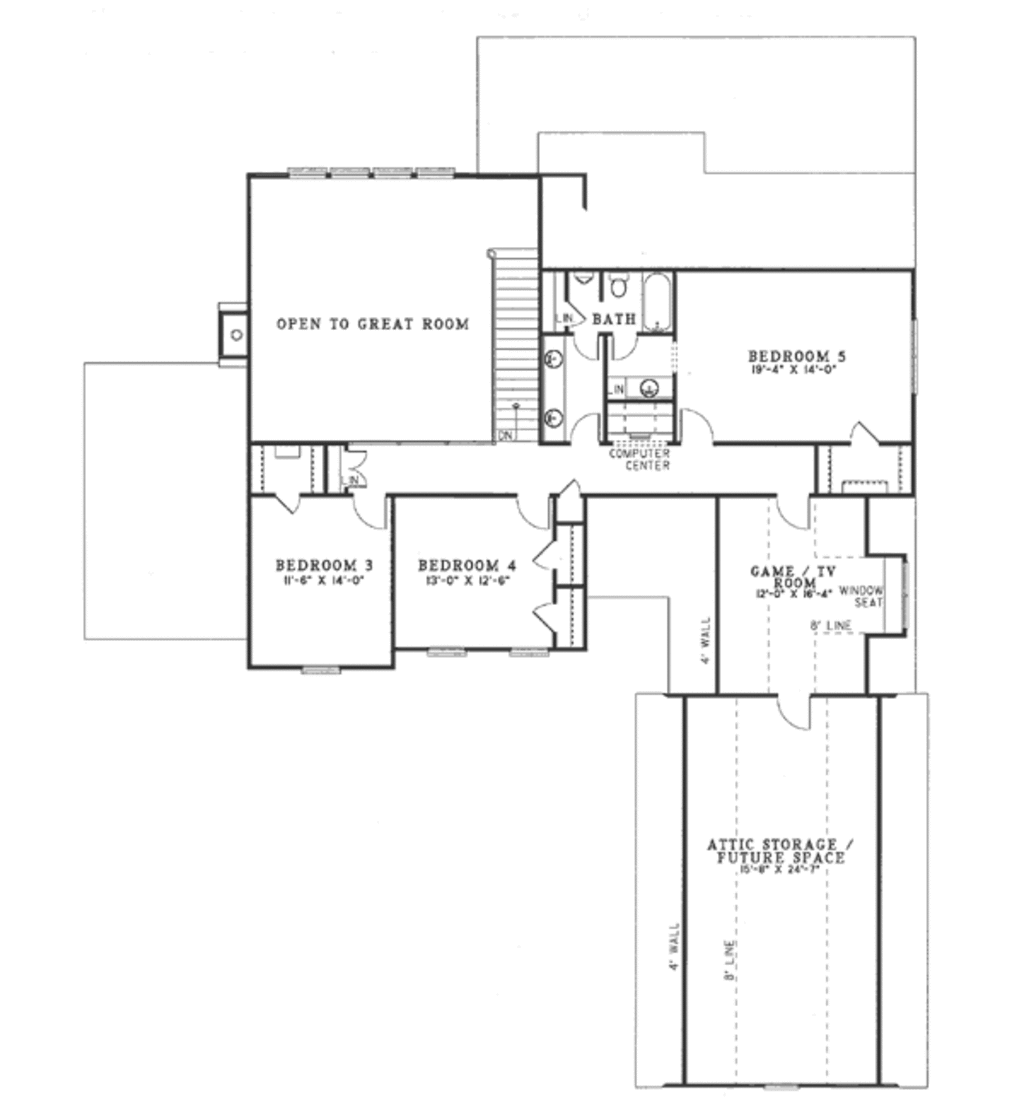door: (756, 681, 826, 730), (509, 490, 559, 537), (771, 491, 819, 538), (348, 491, 397, 535), (680, 408, 721, 451), (526, 598, 562, 644), (340, 449, 378, 488), (555, 470, 591, 510), (527, 534, 562, 574), (561, 414, 603, 445), (570, 331, 602, 365), (275, 487, 306, 521), (611, 330, 642, 364), (554, 298, 584, 323), (848, 424, 877, 448)
large_sink: (599, 267, 641, 305)
small_sink: (539, 335, 568, 441), (620, 371, 678, 396)
stairs: (474, 244, 538, 448)
tub: (638, 272, 683, 333)
windows: (280, 165, 462, 180)
